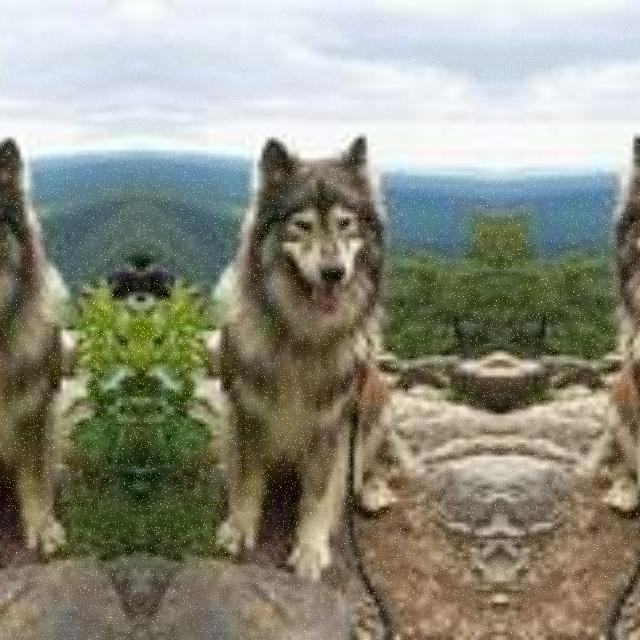dog: (190, 129, 468, 601), (531, 129, 640, 601), (0, 129, 90, 601)
